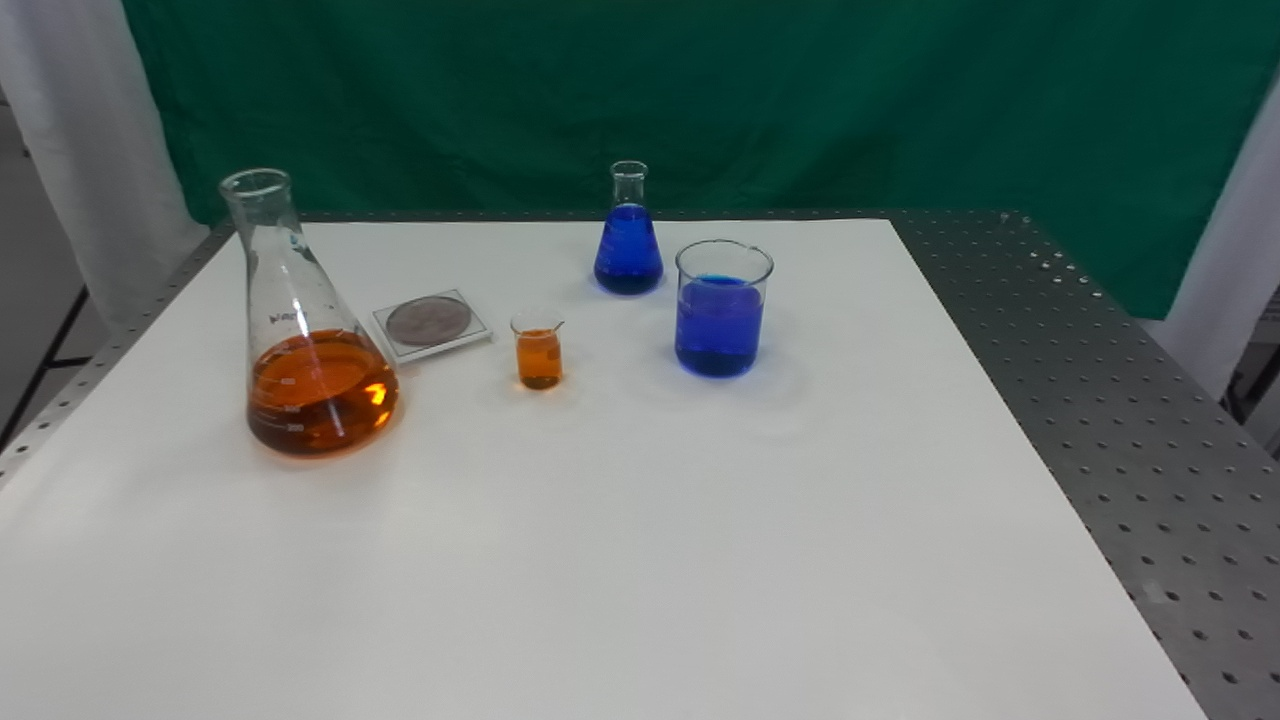glass: (218, 165, 404, 462), (670, 236, 777, 382), (591, 156, 665, 299), (508, 304, 569, 394)
plate: (366, 284, 497, 373)
